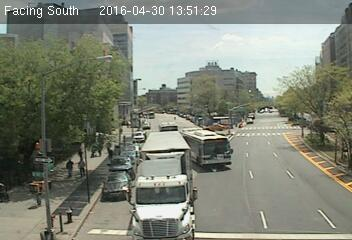neg: (234, 100, 256, 129), (163, 197, 185, 225), (209, 122, 229, 149), (133, 165, 151, 188), (64, 195, 80, 217), (180, 156, 196, 177), (48, 215, 63, 234)
pos: (71, 152, 90, 178), (58, 155, 76, 178), (91, 140, 106, 160), (104, 136, 116, 152)
